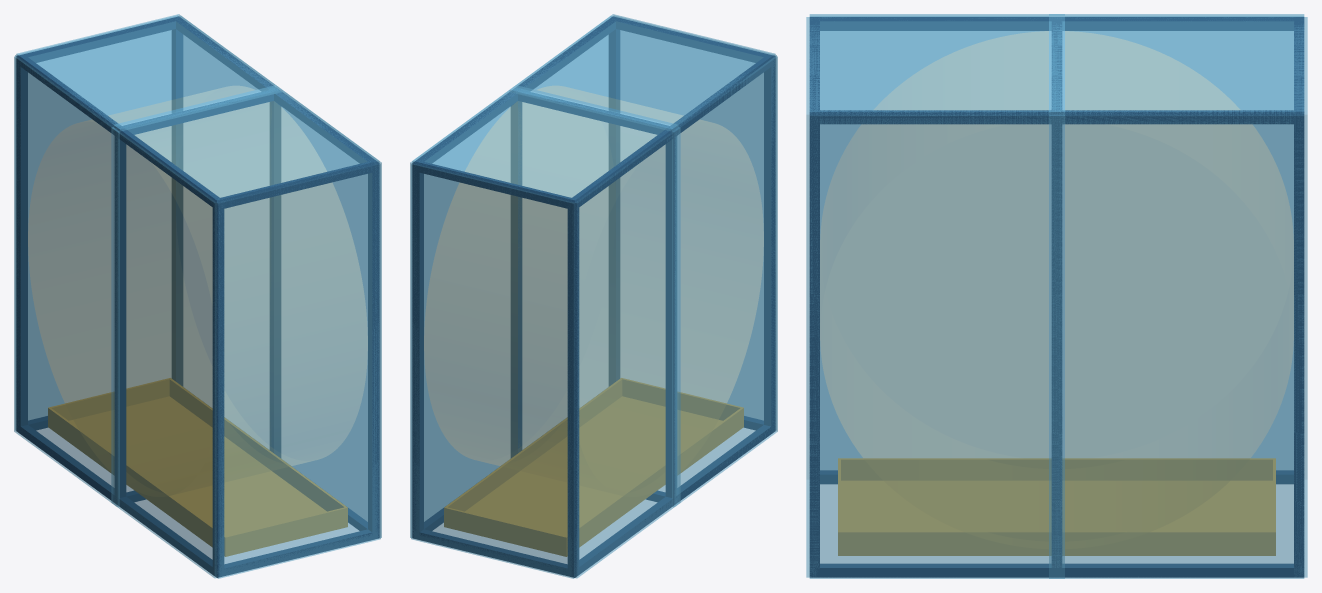
File: HR-V0_fixed-guard-receiver-candidate.glb
3 views of the same model, side by side, from view 1: azimuth 30°, elevation 25°; view 2: azimuth 150°, elevation 25°; view 3: azimuth 270°, elevation 25° (orthographic). The views are drawn at different scales.
Parts seen in each view (by area): view 1: PANEL-LEFT, PANEL-FRONT-LEFT, PANEL-FRONT-RIGHT, PANEL-TOP-LEFT, PANEL-TOP-RIGHT, RECEIVER-BASE, PANEL-RIGHT, PANEL-REAR-LEFT, POST-01, POST-03, POST-02, POST-05 (+14 smaller); view 2: PANEL-RIGHT, PANEL-FRONT-LEFT, PANEL-FRONT-RIGHT, PANEL-TOP-LEFT, PANEL-TOP-RIGHT, RECEIVER-BASE, PANEL-LEFT, PANEL-REAR-RIGHT, POST-02, POST-04, POST-01, POST-05 (+14 smaller); view 3: PANEL-REAR-LEFT, PANEL-REAR-RIGHT, PANEL-TOP-RIGHT, PANEL-TOP-LEFT, RECEIVER-BASE, PANEL-FRONT-LEFT, PANEL-FRONT-RIGHT, RECEIVER-WALL-X2, RECEIVER-WALL-X1, YRAIL-REAR-TOP, YRAIL-REAR-BOT, YRAIL-FRONT-TOP (+8 smaller).
Part boxes in pixels (bbox=[...]): PANEL-LEFT: bbox=[217, 163, 380, 578]; PANEL-FRONT-LEFT: bbox=[111, 127, 216, 578]; PANEL-FRONT-RIGHT: bbox=[14, 56, 119, 506]; PANEL-TOP-LEFT: bbox=[113, 85, 379, 202]; PANEL-TOP-RIGHT: bbox=[16, 14, 282, 131]; RECEIVER-BASE: bbox=[48, 396, 347, 556]; PANEL-RIGHT: bbox=[15, 16, 177, 429]; PANEL-REAR-LEFT: bbox=[284, 92, 381, 537]; POST-01: bbox=[212, 198, 224, 577]; POST-03: bbox=[368, 160, 379, 539]; POST-02: bbox=[16, 54, 27, 433]; POST-05: bbox=[115, 126, 125, 503]; PANEL-RIGHT: bbox=[411, 163, 574, 578]; PANEL-FRONT-LEFT: bbox=[672, 56, 777, 506]; PANEL-FRONT-RIGHT: bbox=[575, 127, 680, 578]; PANEL-TOP-LEFT: bbox=[509, 14, 775, 131]; PANEL-TOP-RIGHT: bbox=[412, 85, 678, 202]; RECEIVER-BASE: bbox=[444, 396, 743, 556]; PANEL-LEFT: bbox=[614, 16, 776, 429]; PANEL-REAR-RIGHT: bbox=[410, 92, 507, 537]; POST-02: bbox=[567, 198, 579, 577]; POST-04: bbox=[412, 160, 423, 539]; POST-01: bbox=[764, 54, 775, 433]; POST-05: bbox=[666, 126, 676, 505]; PANEL-REAR-LEFT: bbox=[809, 114, 1064, 578]; PANEL-REAR-RIGHT: bbox=[1049, 114, 1304, 578]; PANEL-TOP-RIGHT: bbox=[1049, 14, 1304, 114]; PANEL-TOP-LEFT: bbox=[809, 14, 1064, 114]; RECEIVER-BASE: bbox=[841, 481, 1272, 555]; PANEL-FRONT-LEFT: bbox=[810, 16, 1048, 469]; PANEL-FRONT-RIGHT: bbox=[1065, 16, 1303, 469]; RECEIVER-WALL-X2: bbox=[838, 531, 1275, 555]; RECEIVER-WALL-X1: bbox=[838, 458, 1275, 480]; YRAIL-REAR-TOP: bbox=[820, 110, 1293, 124]; YRAIL-REAR-BOT: bbox=[820, 564, 1293, 577]; YRAIL-FRONT-TOP: bbox=[820, 17, 1293, 30].
Bounding box in the file's own units: 452 × 976 × 952.
